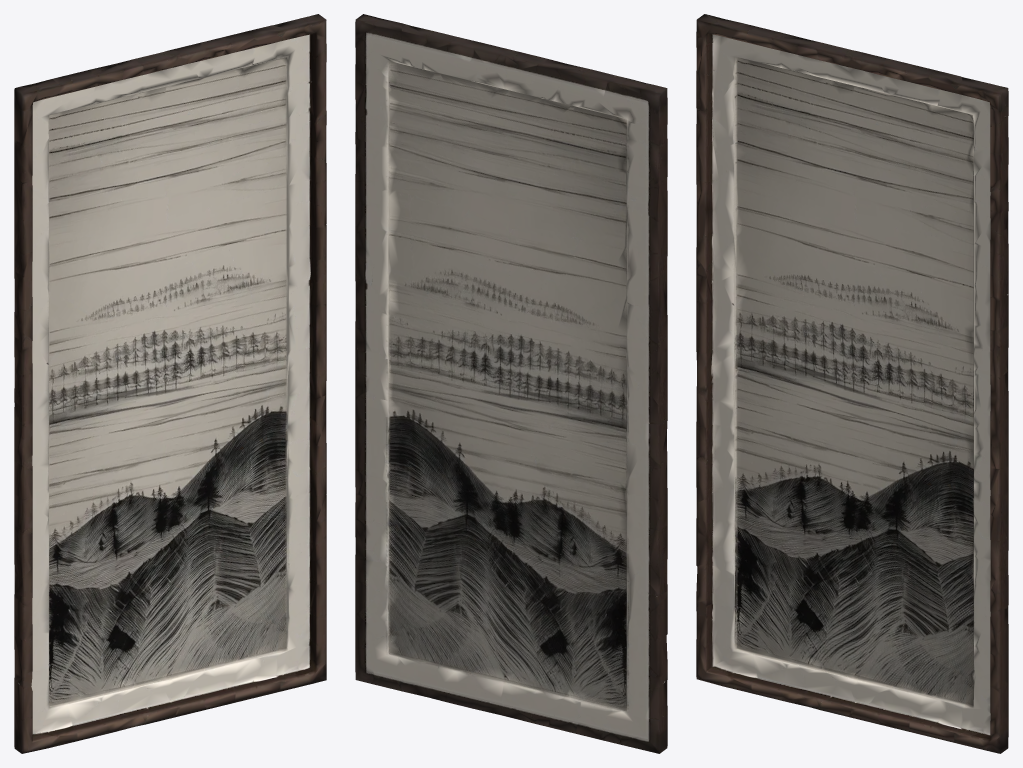
The model's file is Framed Landscape Art.glb.
3 renders of one model, left to right at view 1: azimuth 30°, elevation 25°; view 2: azimuth 150°, elevation 25°; view 3: azimuth 330°, elevation 25°, orthographic.
Visible parts, largest first — view 1: Mesh_0.001; view 2: Mesh_0.001; view 3: Mesh_0.001.
Part boxes in pixels (left/top/right/bottom): Mesh_0.001: left=14, top=14, right=326, bottom=753; Mesh_0.001: left=355, top=14, right=667, bottom=753; Mesh_0.001: left=696, top=14, right=1008, bottom=753.
Size of the model in its own units: 0.2894 by 0.6 by 0.0133.
1 material, 1 textured.
